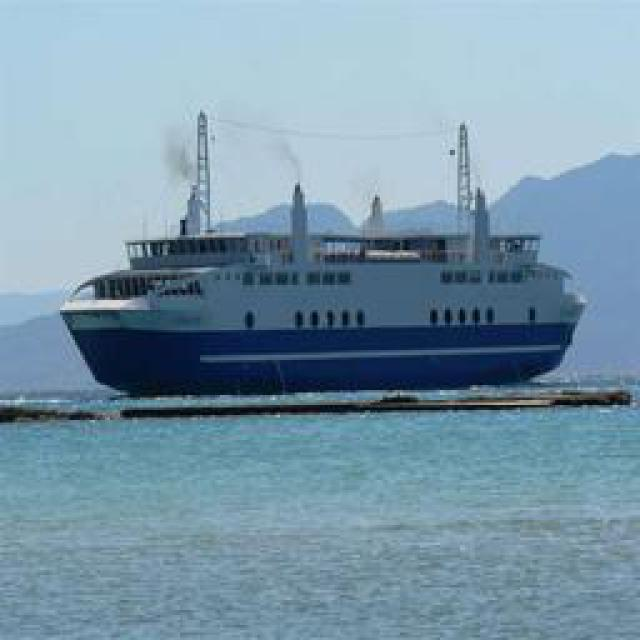Ship: (50, 107, 603, 397)
